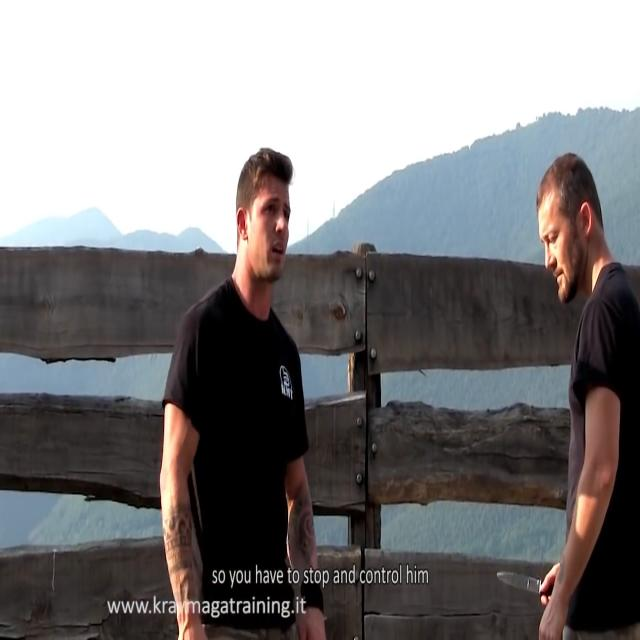knife: (492, 566, 544, 603)
